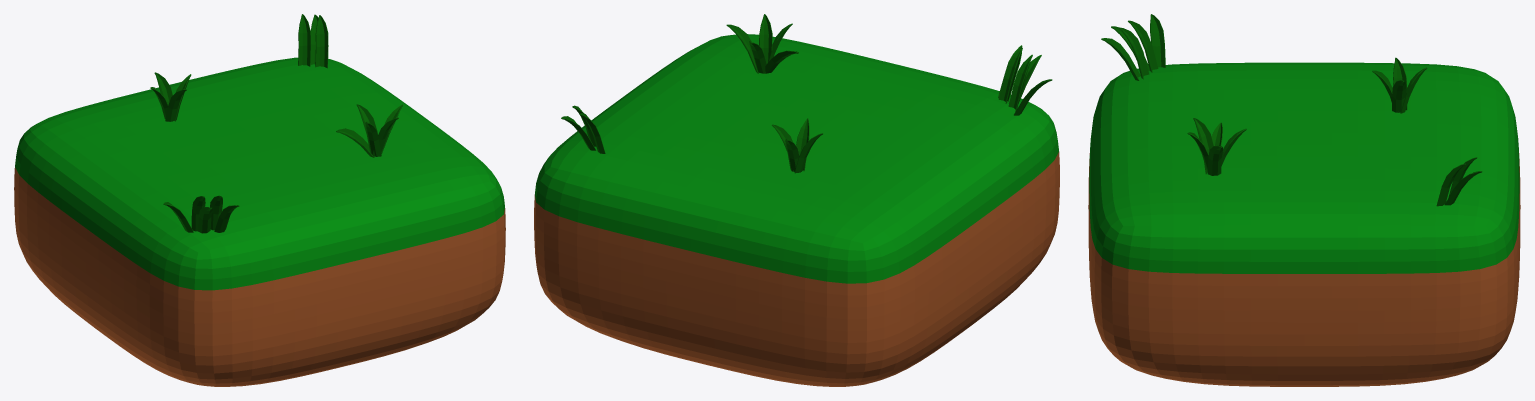
Rendered from platformVide3.fbx.
3 renders of one model, left to right at view 1: azimuth 30°, elevation 25°; view 2: azimuth 150°, elevation 25°; view 3: azimuth 270°, elevation 25°, orthographic. The views are drawn at different scales.
Parts seen in each view (by area): view 1: herbe; view 2: herbe; view 3: herbe.
Boxes of the visible parts, x1=… form: herbe: x1=14, y1=14, x2=505, y2=386; herbe: x1=534, y1=14, x2=1059, y2=386; herbe: x1=1088, y1=14, x2=1520, y2=386.
Size of the model in its own units: 200 by 122 by 200.
